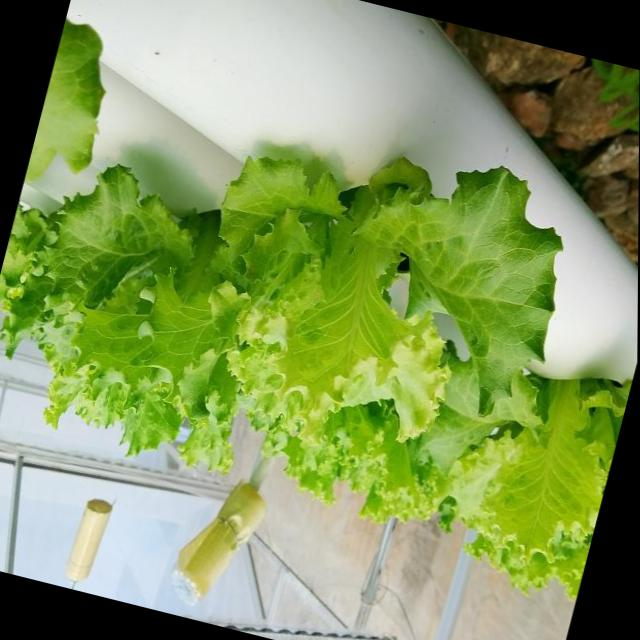Baby: (137, 158, 561, 456)
